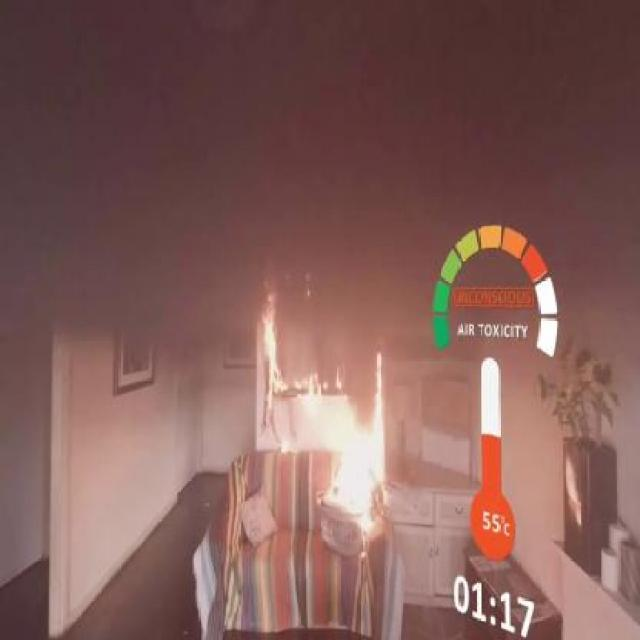fire: (320, 354, 389, 558), (247, 280, 304, 462)
smoke: (54, 25, 560, 302)
